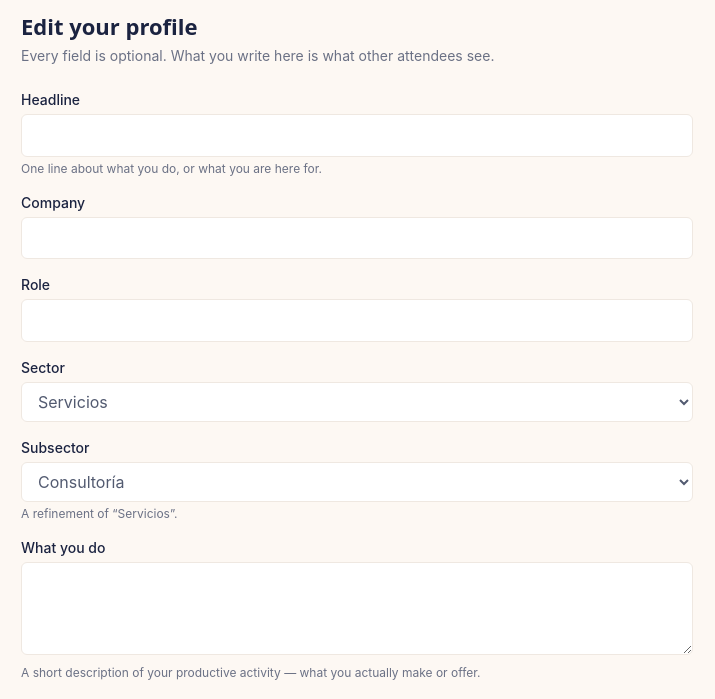
Test: editing a profile › filters the subsector chooser by the chosen sector, and blocks an unresolved pair (FR-1087)
Expected: the option "Minorista" is not shown
Select "Comercio" in the dropdown labelled "Sector" at [357, 402], box [21,382,693,422]
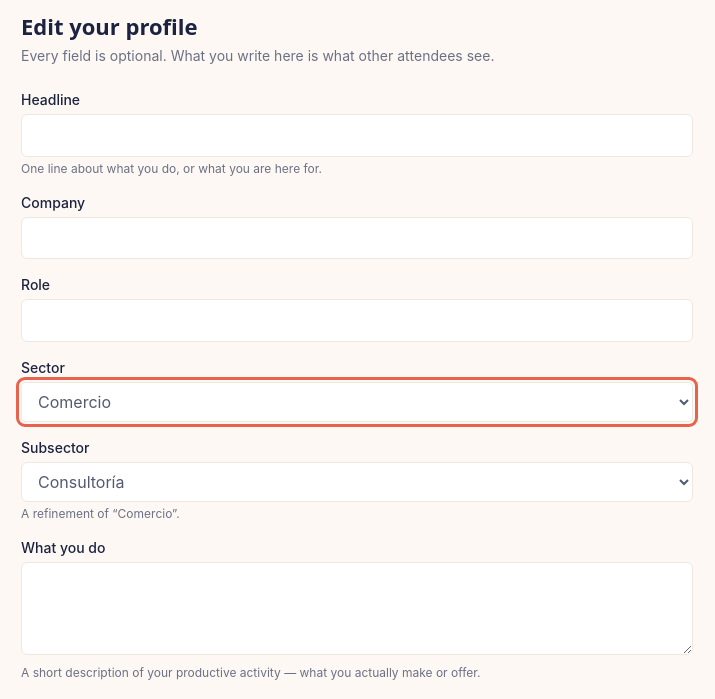
Note: Resolving it — choosing a refinement of the new sector — re-enables the save.
Select "Minorista" in the dropdown labelled "Subsector" at [357, 482], box [21,462,693,502]
(page scrolled)
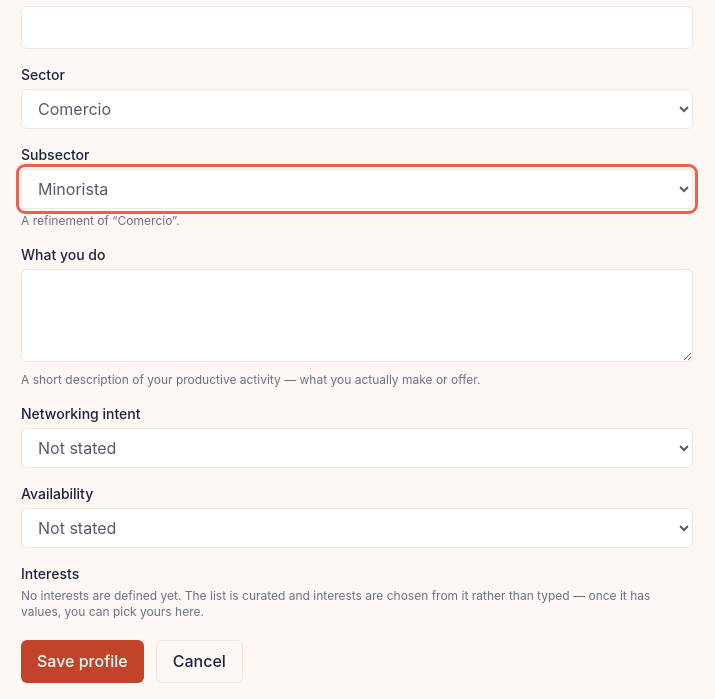
Now the button "Save profile" is enabled, box [21,640,144,683]
